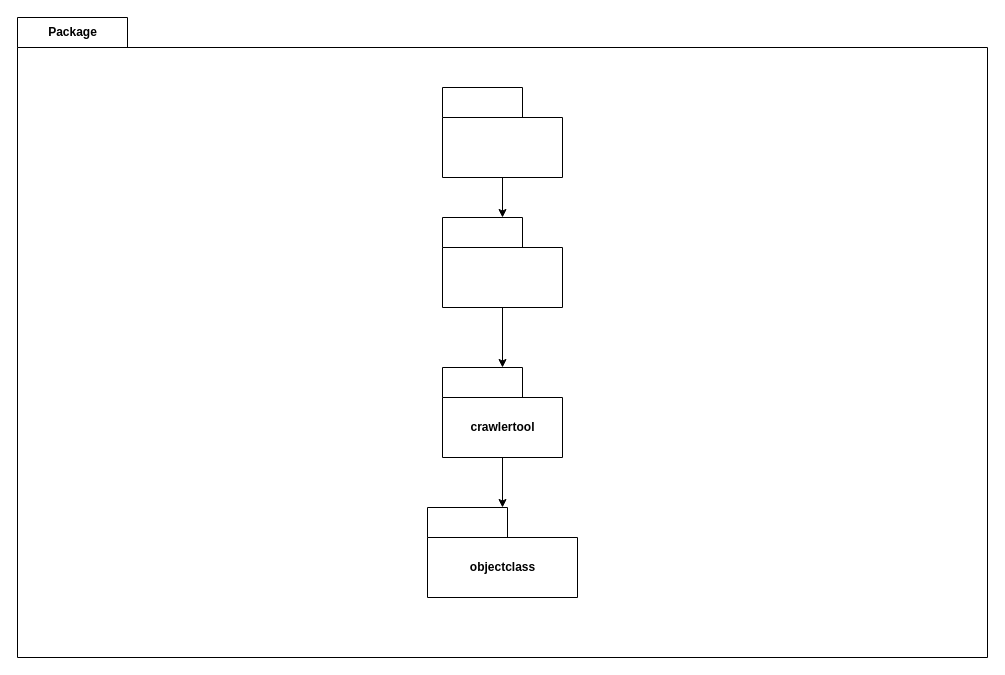
Image size: 1005x675. Some labels were removed from this diagram. Each missing label, with the centre of its shape:
"datahandle" goes at (502,262).
"gui" goes at (502,132).
